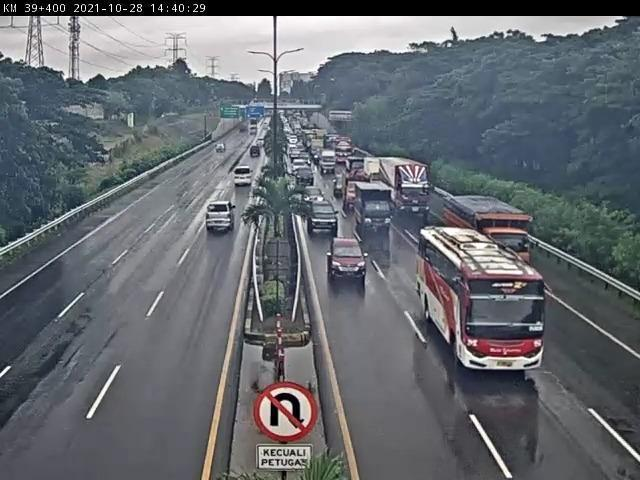Bus: (421, 224, 546, 373)
